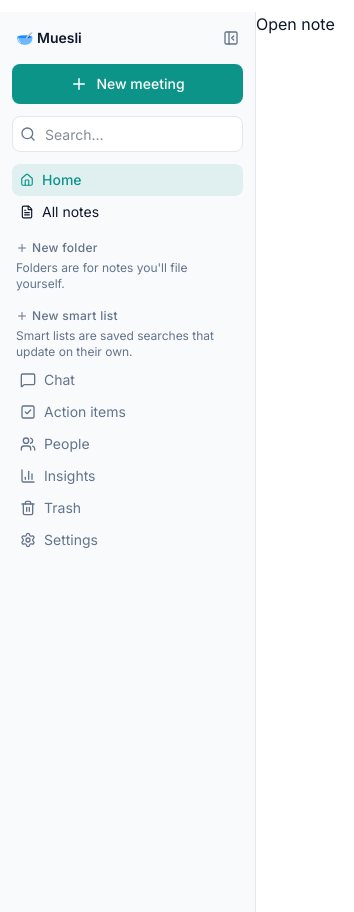
Test: AppLayout route-entry refresh › refetches notes when a routed child changes without changing the active view
The image size is (354, 912).
Click the link "Open note": (295, 24) top-left (256, 14), bottom-right (335, 34)
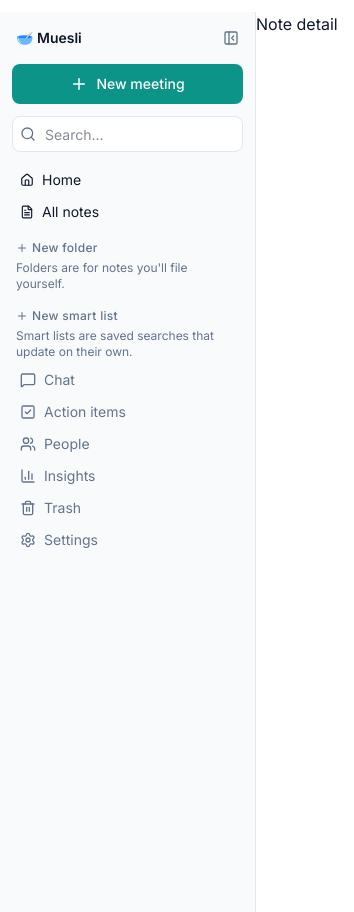
expect the text "Note detail" is shown: met, box top-left (256, 14), bottom-right (338, 34)
